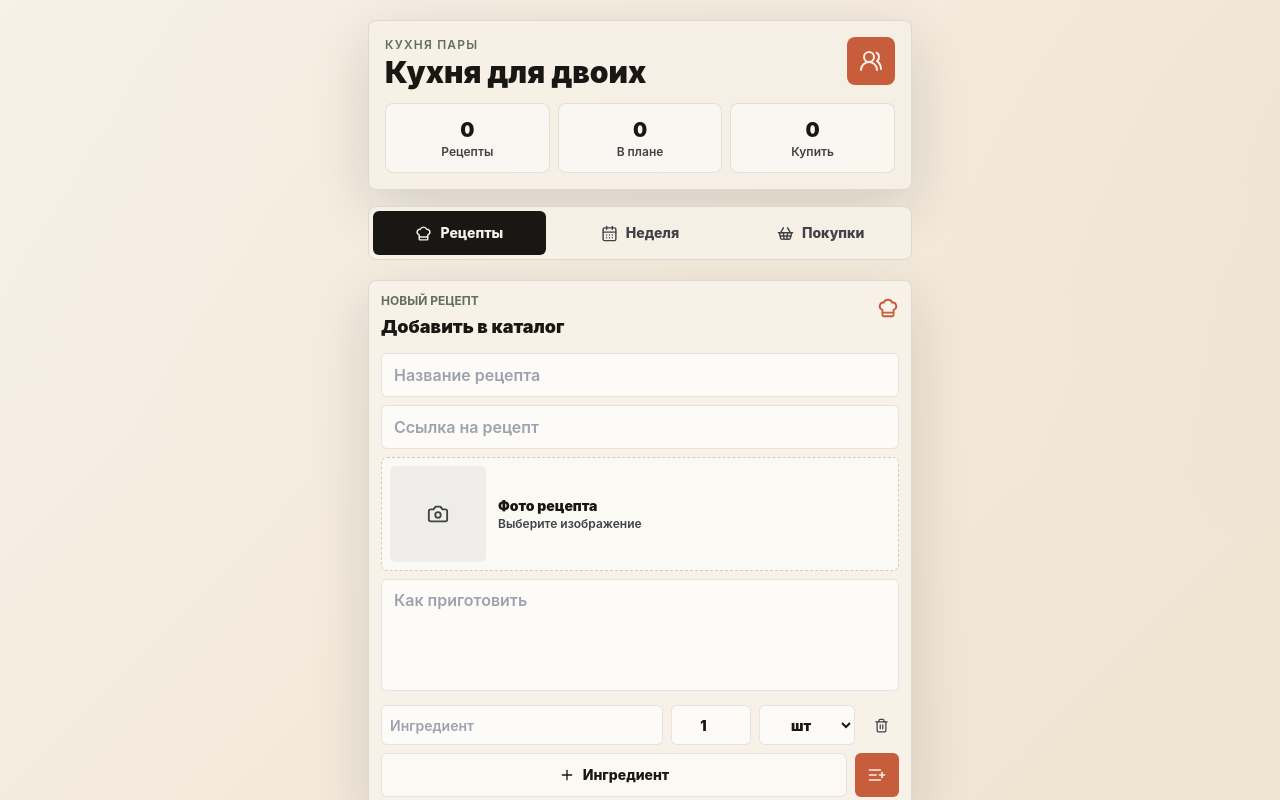
MiniApp › shows household members in the family screen
Step 1. Click the button named "Открыть семью" → coordinates (871, 61), box [847,37,895,85]
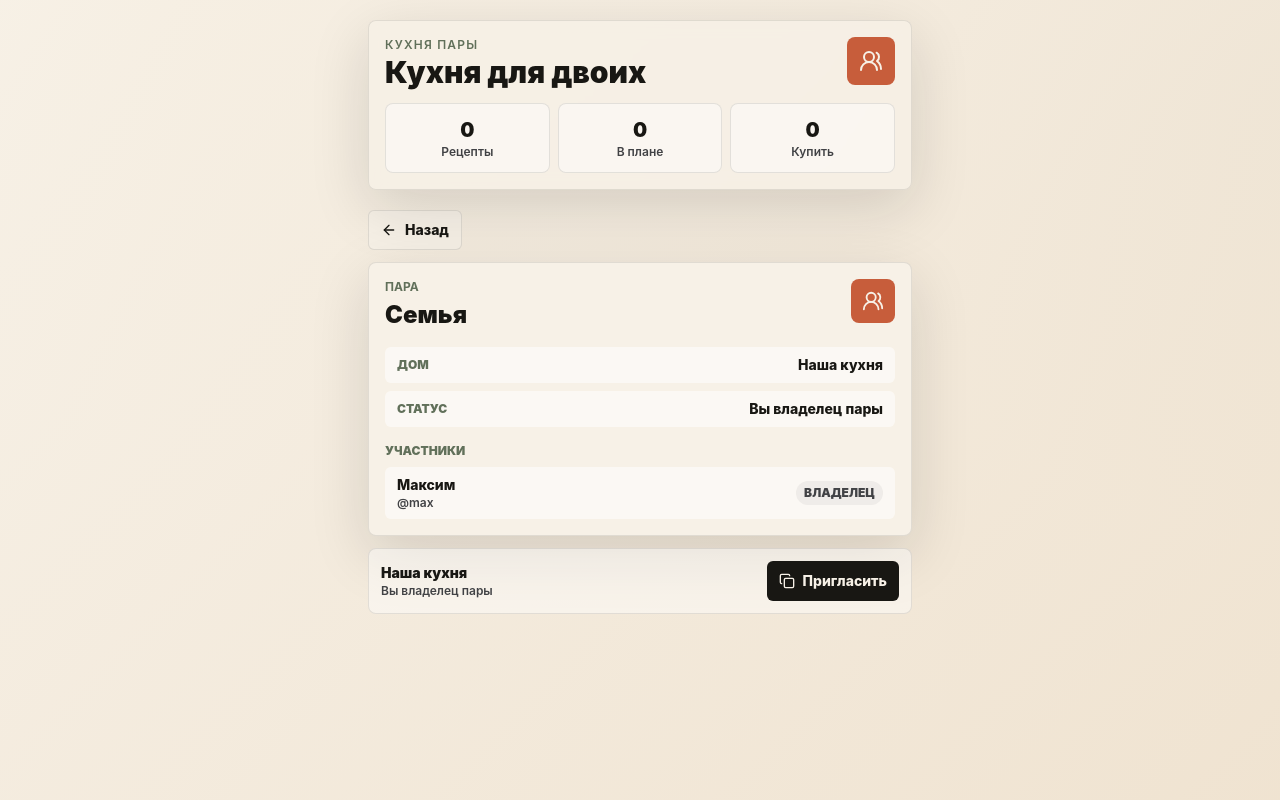
Expected: the text "Максим" is shown, [397,475,455,495]
Expected: the text "@max" is shown, [397,495,434,510]
Expected: the text "владелец" is shown, [796,481,883,505]
